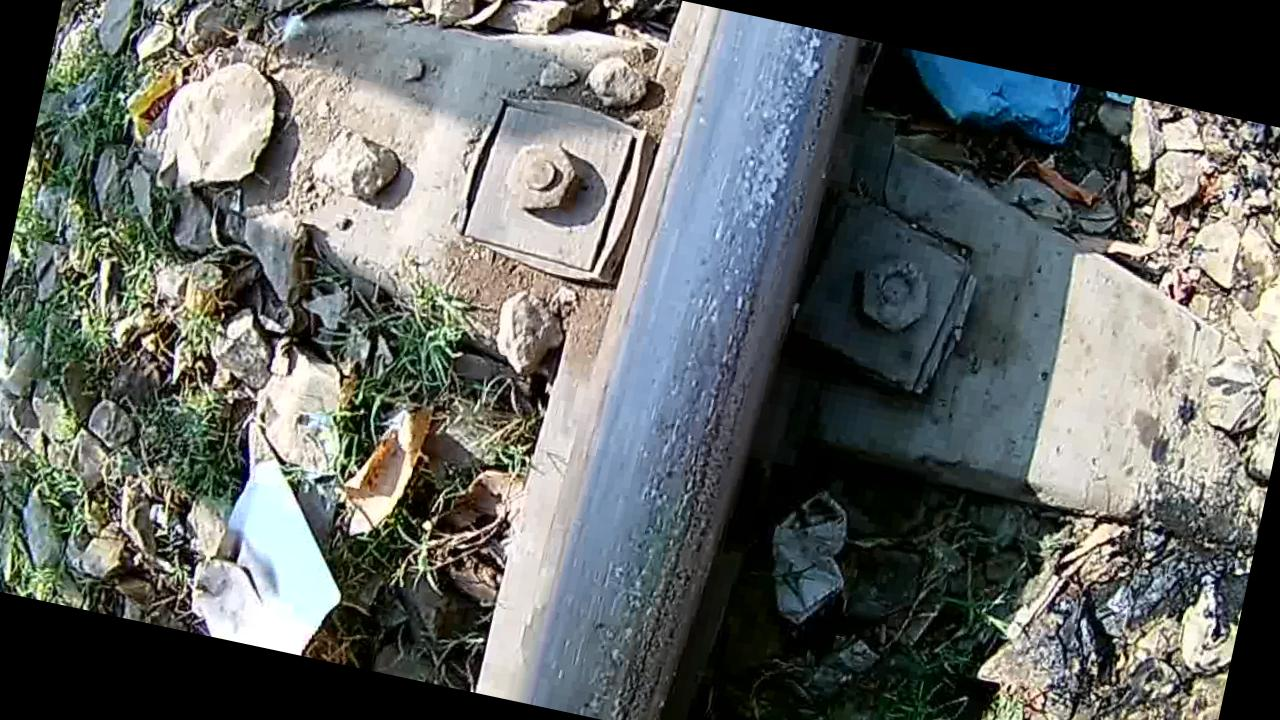clip_missing: (549, 4, 839, 720)
